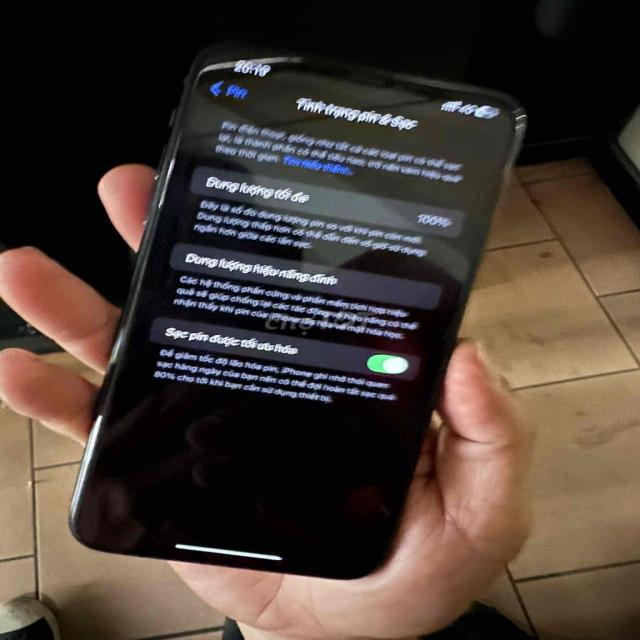gen_11: (60, 30, 522, 591)
